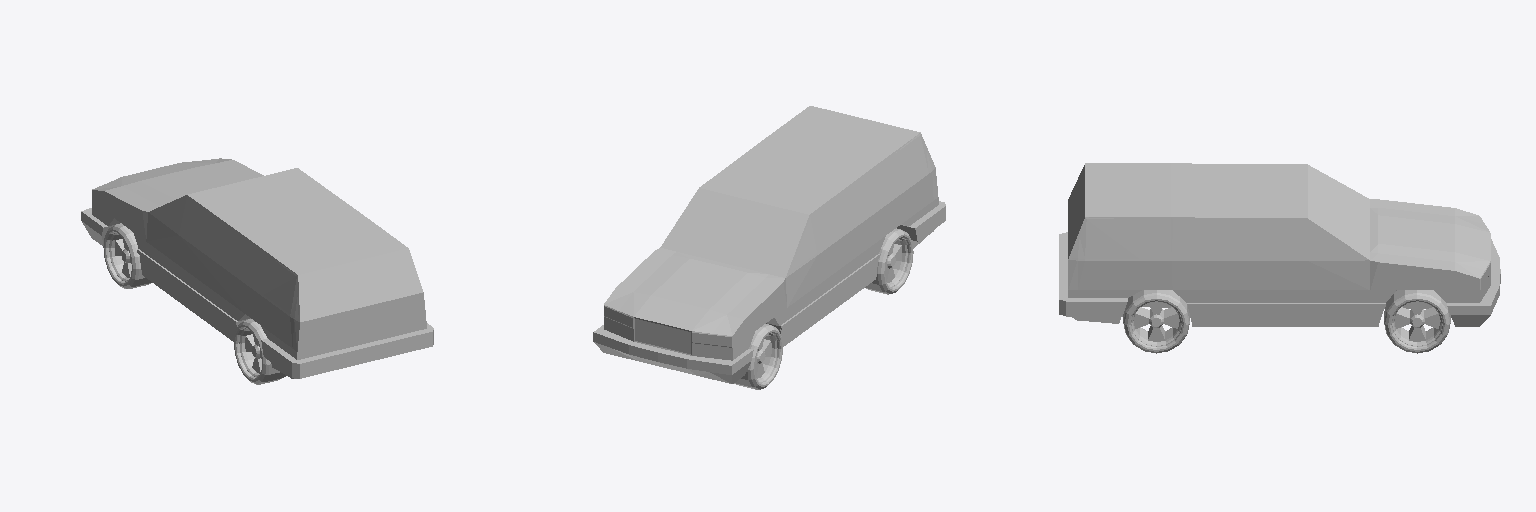
Rendered from car01.obj.
3 renders of one model, left to right at view 1: azimuth 30°, elevation 25°; view 2: azimuth 150°, elevation 25°; view 3: azimuth 270°, elevation 25°, orthographic.
Visible parts, largest first — view 1: Chassis, Wheel.FL, Wheel.BL; view 2: Chassis, Wheel.BL, Wheel.FL; view 3: Chassis, Wheel.FR, Wheel.BR.
Boxes of the visible parts, box(x1,y1,x2,y2) form: Chassis: box(81, 158, 433, 378); Wheel.FL: box(103, 223, 151, 288); Wheel.BL: box(234, 319, 286, 384); Chassis: box(593, 106, 945, 383); Wheel.BL: box(865, 228, 913, 294); Wheel.FL: box(734, 324, 782, 389); Chassis: box(1059, 163, 1500, 326); Wheel.FR: box(1384, 290, 1450, 353); Wheel.BR: box(1123, 290, 1189, 353).
Size of the model in its own units: 1.54 by 1.36 by 4.15.